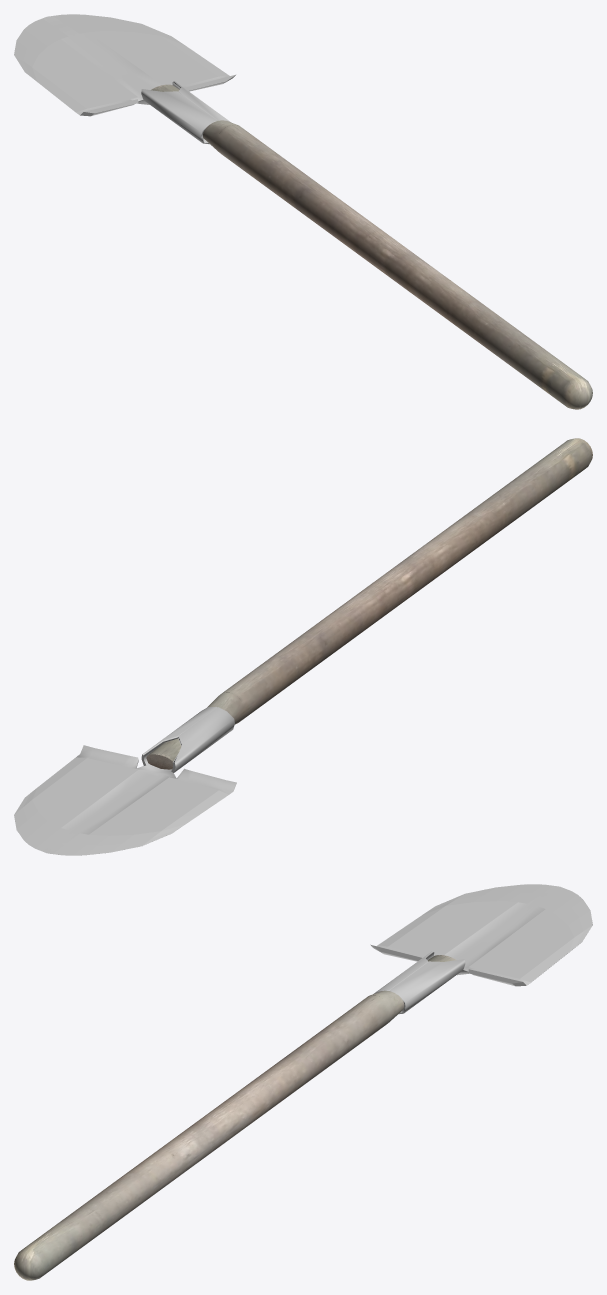
File: Shovel.fbx
3 renders of one model, top to bottom at view 1: azimuth 30°, elevation 25°; view 2: azimuth 150°, elevation 25°; view 3: azimuth 330°, elevation 25°, orthographic.
Parts seen in each view (by area): view 1: Cube, Cylinder; view 2: Cube, Cylinder; view 3: Cube, Cylinder.
Part boxes in pixels (bbox=[...]): Cube: bbox=[14, 14, 235, 144]; Cylinder: bbox=[151, 84, 592, 409]; Cube: bbox=[14, 706, 236, 855]; Cylinder: bbox=[146, 438, 592, 769]; Cube: bbox=[370, 884, 592, 1014]; Cylinder: bbox=[14, 955, 456, 1280].
Size of the model in its own units: 6.18 by 1.28 by 37.51.
